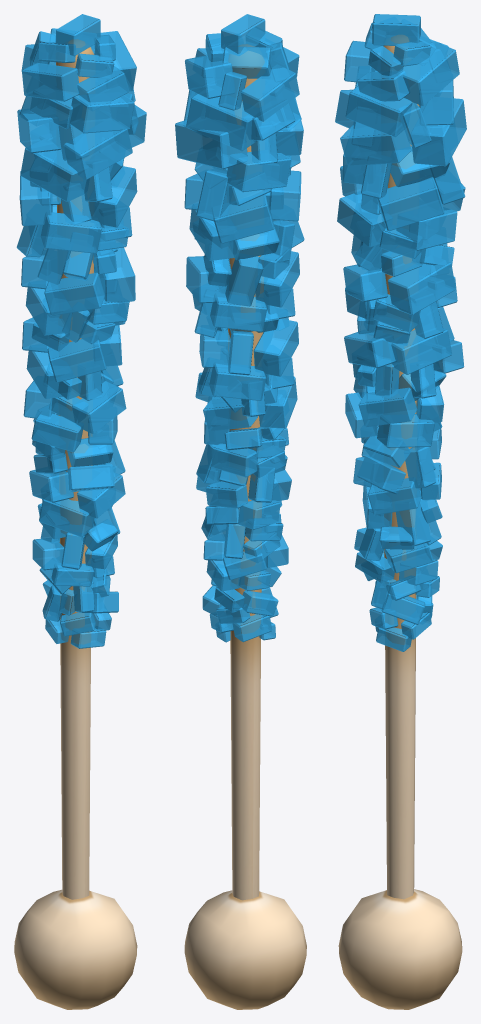
The model's file is Pop_Rock_Candy_Blue.FBX.
3 views of the same model, side by side, from view 1: azimuth 30°, elevation 25°; view 2: azimuth 210°, elevation 25°; view 3: azimuth 330°, elevation 25° (orthographic).
Parts seen in each view (by area): view 1: Blue, Stick; view 2: Blue, Stick; view 3: Blue, Stick.
Boxes of the visible parts, box(x1,y1,x2,y2) form: Blue: box(16, 14, 146, 648); Stick: box(14, 39, 137, 1009); Blue: box(175, 14, 304, 642); Stick: box(184, 44, 306, 1009); Blue: box(335, 14, 466, 651); Stick: box(338, 35, 462, 1009).
Bounding box in the file's own units: 12.36 × 100 × 11.79.
2 materials, 2 textured.
